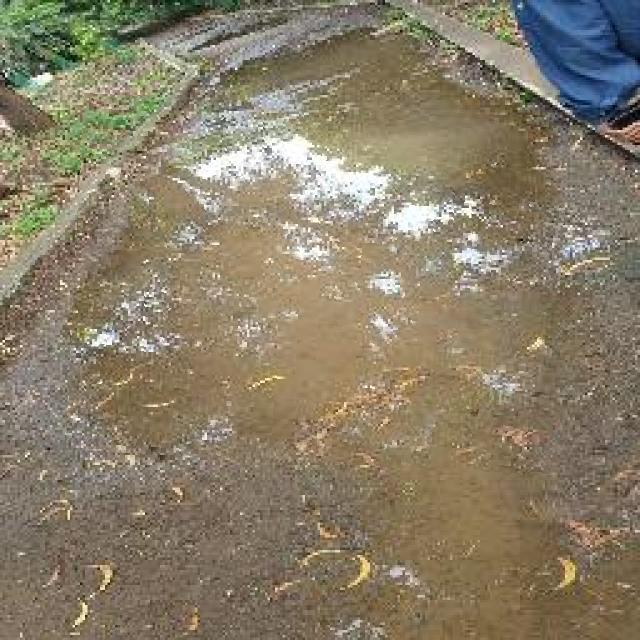puddle: (71, 100, 566, 469)
